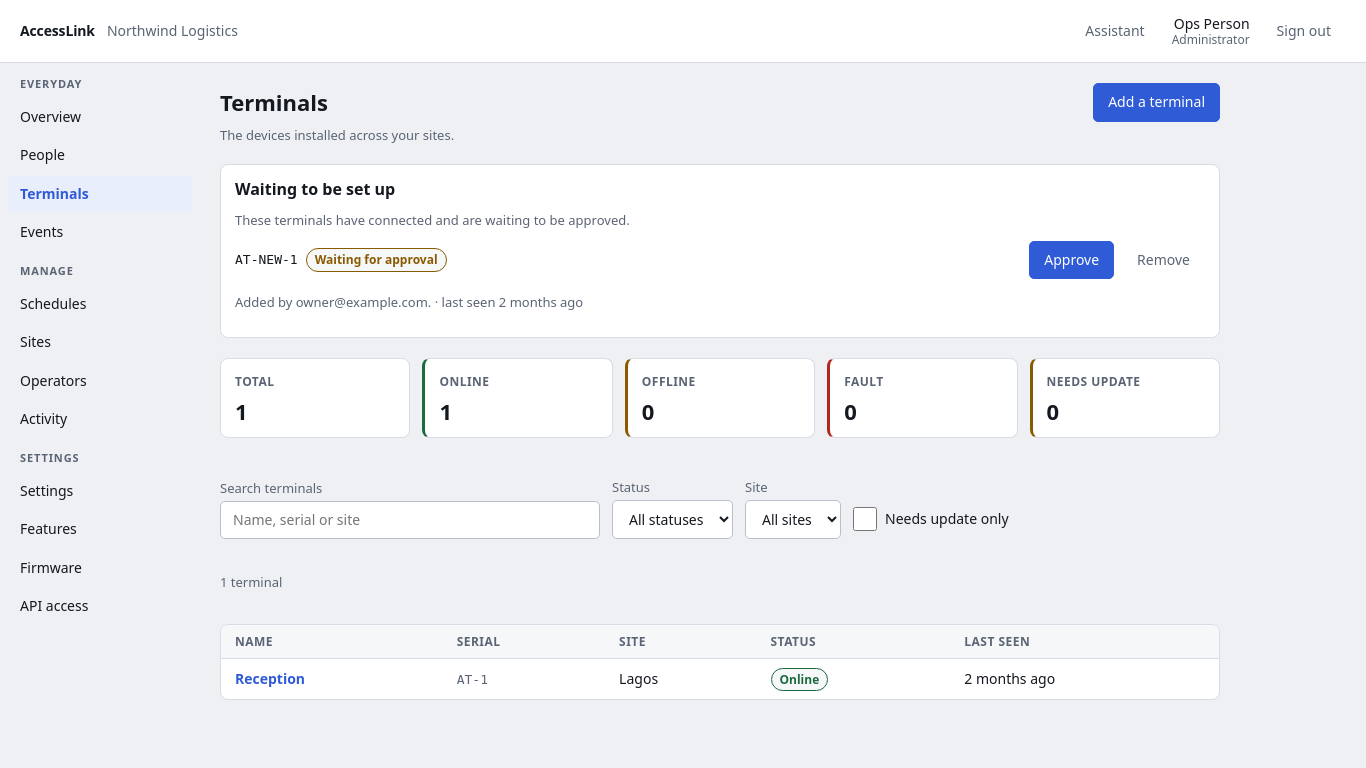
the terminal set-up cards › names the serial and the site, then refreshes the waiting list, the fleet and the trail
Expected: the text "AT-NEW-1" is shown, [235,251,298,270]
Click the button "Assistant".
click(1115, 31)  # box [1070,12,1160,50]
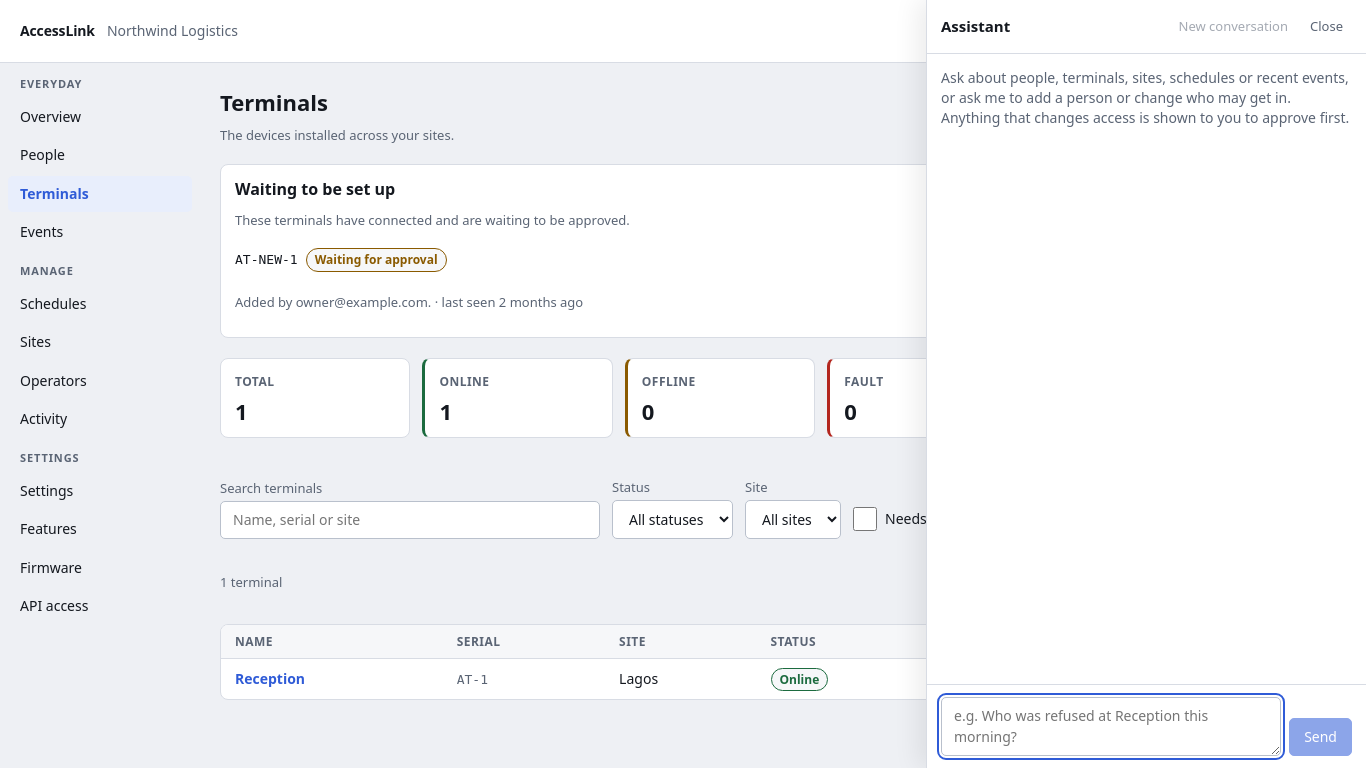
Type "approve the new terminal into Lagos" into the text box named "Message the assistant".
click(1111, 727); type("approve the new terminal into Lagos")  # box [941,697,1281,756]
Then press Enter
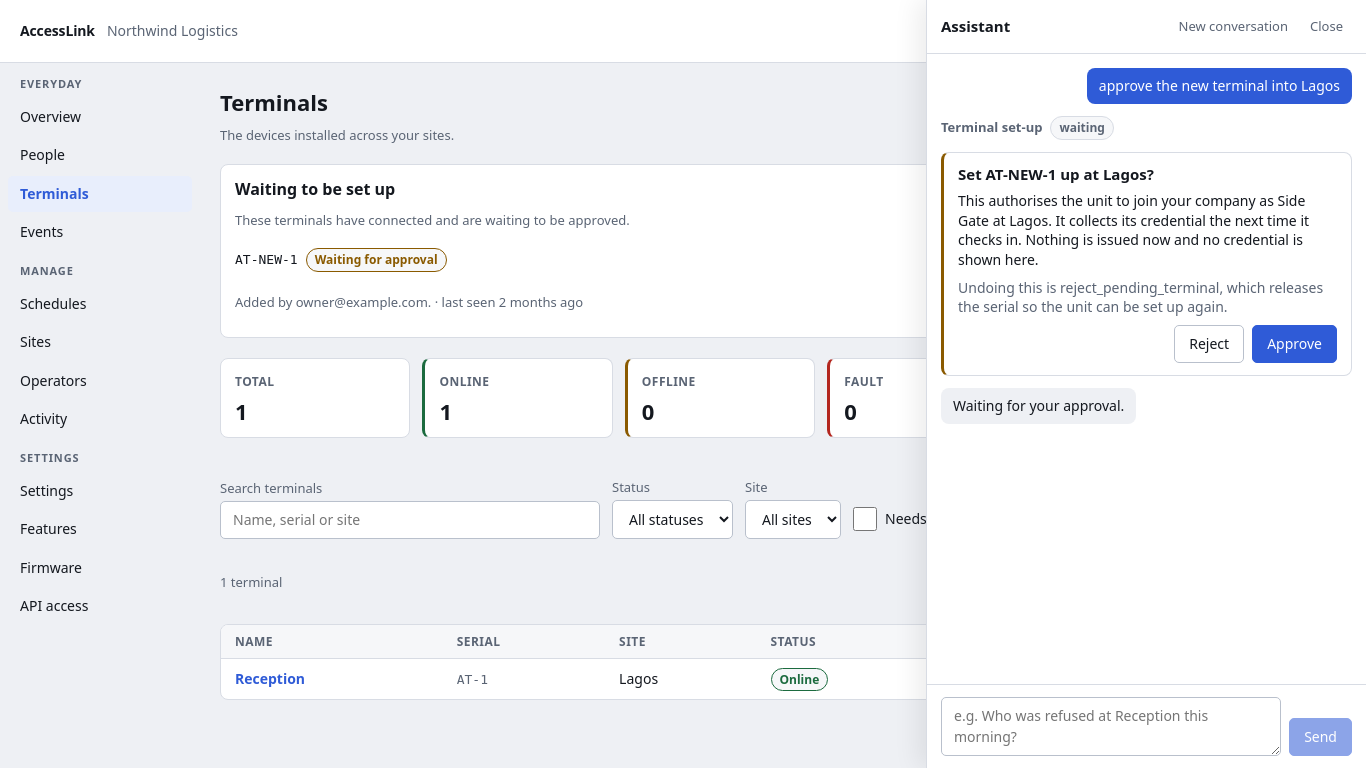
Expected: the text "no credential is shown here" is shown, [958,191,1309,269]
Expected: the text "releases the serial" is shown, [958,278,1323,316]
Click the button "Approve".
click(1295, 344)  # box [1252,325,1337,363]
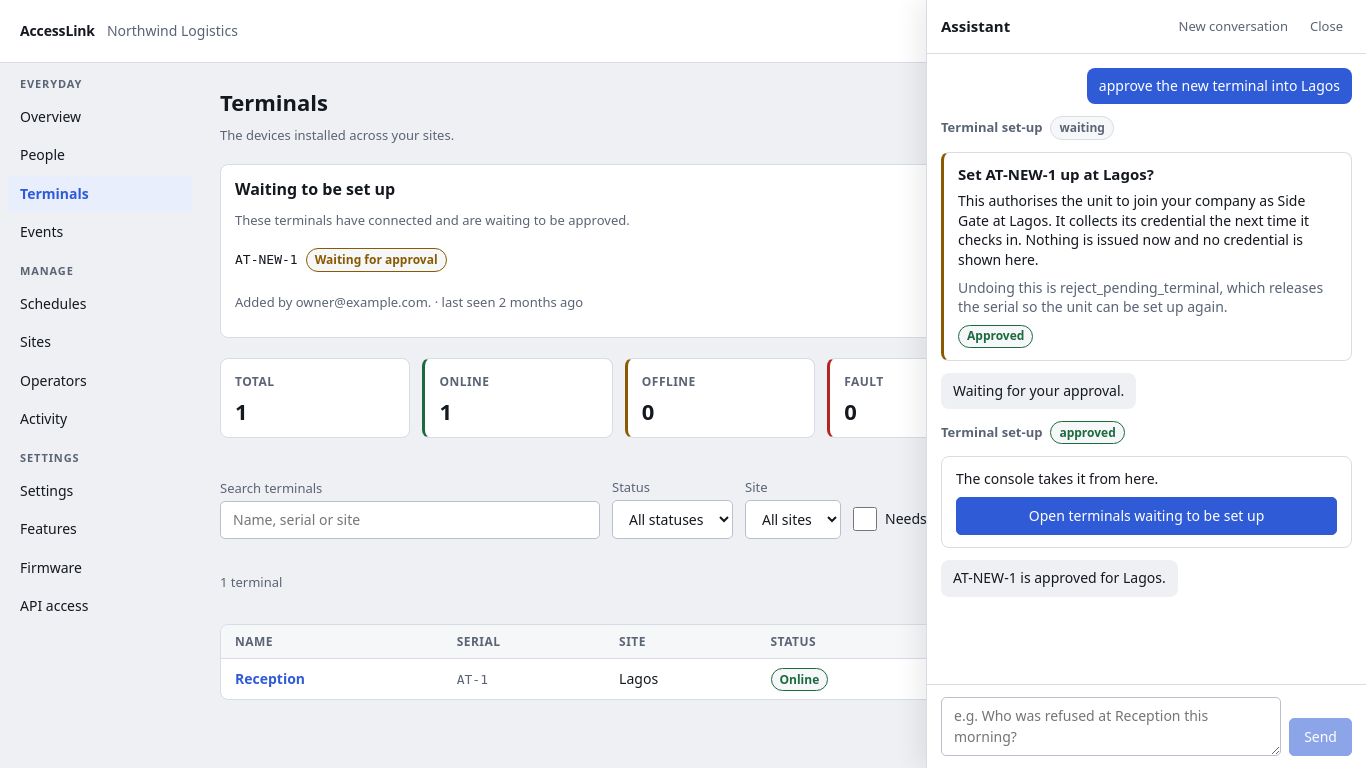
Expected: the 1st text "Terminal set-up" is shown, [941,118,1042,137]
Expected: the text "AT-NEW-1 is approved for Lagos." is shown, [941,560,1178,596]
